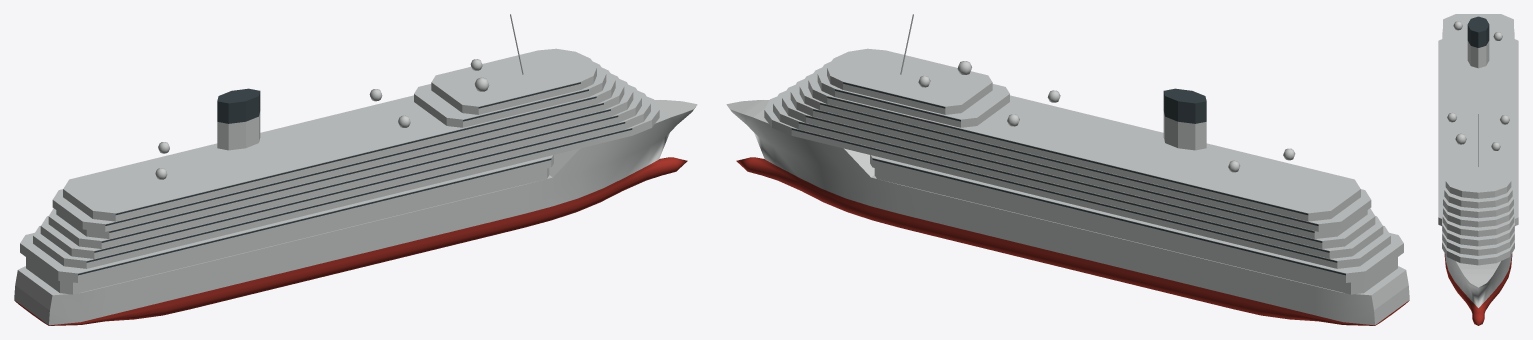
The model's file is adora-magic-city-ship-proxy.glb.
3 renders of one model, left to right at view 1: azimuth 30°, elevation 25°; view 2: azimuth 150°, elevation 25°; view 3: azimuth 270°, elevation 25°, orthographic. The views are drawn at different scales.
Visible parts, largest first — view 1: ShipProxy; view 2: ShipProxy; view 3: ShipProxy.
Boxes of the visible parts, x1,y1,x2,y2 form: ShipProxy: (14, 14, 697, 325); ShipProxy: (726, 14, 1409, 325); ShipProxy: (1438, 14, 1518, 325).
Bounding box in the file's own units: 323 × 92.5 × 44.22.
